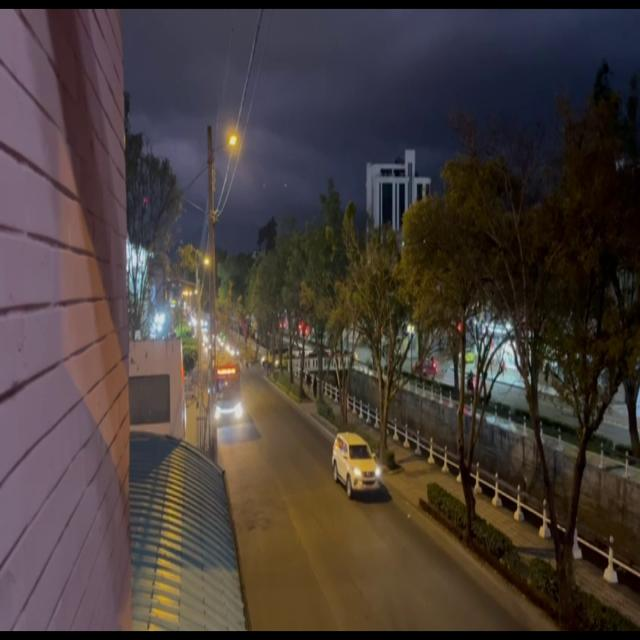BUS: (213, 360, 244, 421)
